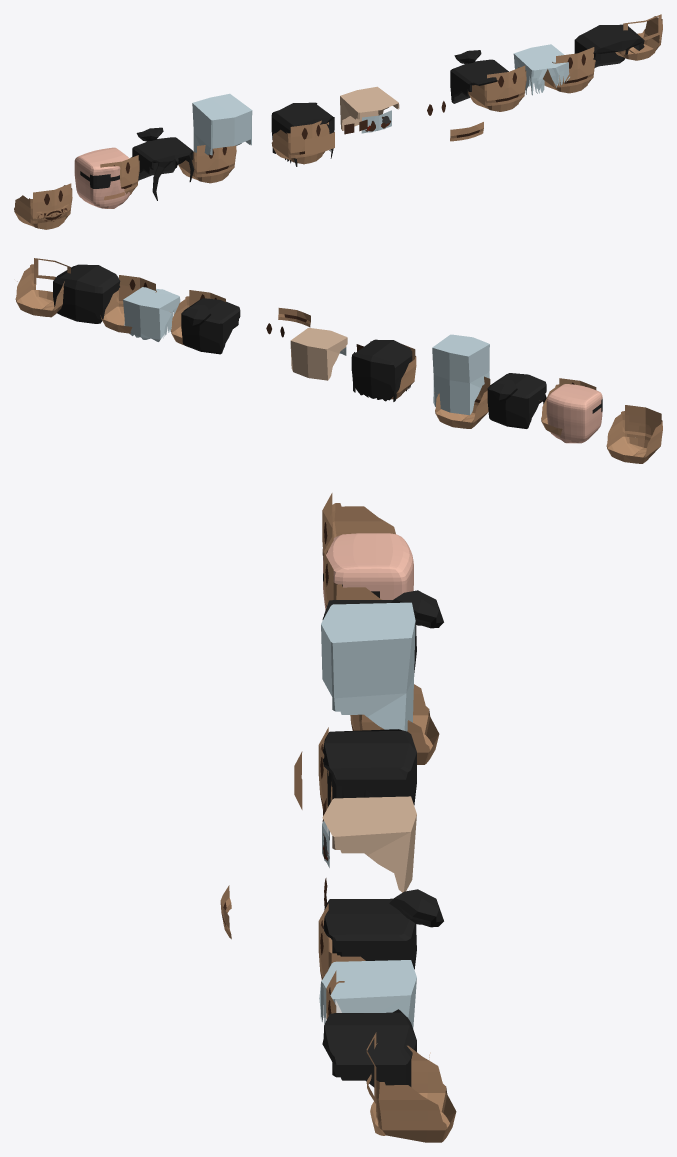
Rendered from Head.fbx.
The picture shows the model from 3 angles, top to bottom: view 1: azimuth 30°, elevation 25°; view 2: azimuth 150°, elevation 25°; view 3: azimuth 270°, elevation 25°; orthographic projection. The views are drawn at different scales.
Visible parts, largest first — view 1: Hair_Up, Head_Bodyguard, Hair_Chignon.2, Hair_Short, Head_Lambda.001, Hair_Strands, Hair_Chignon, Hair_Bald, Head_Lambda.004, Head_Lambda.003, Hair_Strands2, Head_Lambda.002 (+6 smaller); view 2: Hair_Up, Hair_Short, Hair_Strands2, Head_Bodyguard, Head_Lambda, Hair_Chignon.2, Hair_Chignon, Hair_Strands, Hair_Bald, Head_Lambda.006, Head_Lambda.002, Head_Lambda.004 (+4 smaller); view 3: Hair_Up, Hair_Chignon, Hair_Strands2, Hair_Short, Hair_Bald, Head_Lambda.006, Head_Bodyguard, Hair_Strands, Head_Lambda.004, Head_Lambda, Hair_Chignon.2, Head_Lambda.005.
Boxes of the visible parts, bbox=[...] form: Hair_Up: bbox=[192, 93, 252, 155]; Head_Bodyguard: bbox=[74, 147, 130, 208]; Hair_Chignon.2: bbox=[132, 127, 194, 200]; Hair_Short: bbox=[574, 24, 644, 67]; Head_Lambda.001: bbox=[468, 65, 526, 111]; Hair_Strands: bbox=[513, 44, 569, 95]; Hair_Chignon: bbox=[450, 50, 508, 103]; Hair_Bald: bbox=[340, 86, 399, 130]; Head_Lambda.004: bbox=[178, 145, 236, 183]; Head_Lambda.003: bbox=[271, 120, 329, 164]; Hair_Strands2: bbox=[271, 102, 334, 166]; Head_Lambda.002: bbox=[543, 47, 595, 93]; Hair_Up: bbox=[432, 334, 489, 415]; Hair_Short: bbox=[53, 264, 120, 323]; Hair_Strands2: bbox=[351, 339, 412, 401]; Head_Bodyguard: bbox=[546, 384, 602, 443]; Head_Lambda: bbox=[606, 405, 662, 463]; Hair_Chignon.2: bbox=[487, 373, 546, 428]; Hair_Chignon: bbox=[181, 298, 240, 354]; Hair_Strands: bbox=[123, 287, 180, 341]; Hair_Bald: bbox=[290, 328, 347, 380]; Head_Lambda.006: bbox=[15, 258, 70, 317]; Head_Lambda.002: bbox=[100, 275, 156, 333]; Head_Lambda.004: bbox=[434, 376, 490, 428]; Hair_Up: bbox=[321, 602, 415, 731]; Hair_Chignon: bbox=[323, 889, 443, 969]; Hair_Strands2: bbox=[323, 729, 416, 839]; Hair_Short: bbox=[322, 1009, 416, 1087]; Hair_Bald: bbox=[322, 796, 416, 892]; Head_Lambda.006: bbox=[366, 1032, 456, 1142]; Head_Bodyguard: bbox=[323, 533, 413, 609]; Hair_Strands: bbox=[319, 960, 416, 1028]; Head_Lambda.004: bbox=[350, 684, 439, 764]; Head_Lambda: bbox=[322, 493, 395, 550]; Hair_Chignon.2: bbox=[322, 590, 443, 672]; Head_Lambda.005: bbox=[324, 534, 381, 606].
Bounding box in the file's own units: 789 × 84.63 × 129.
